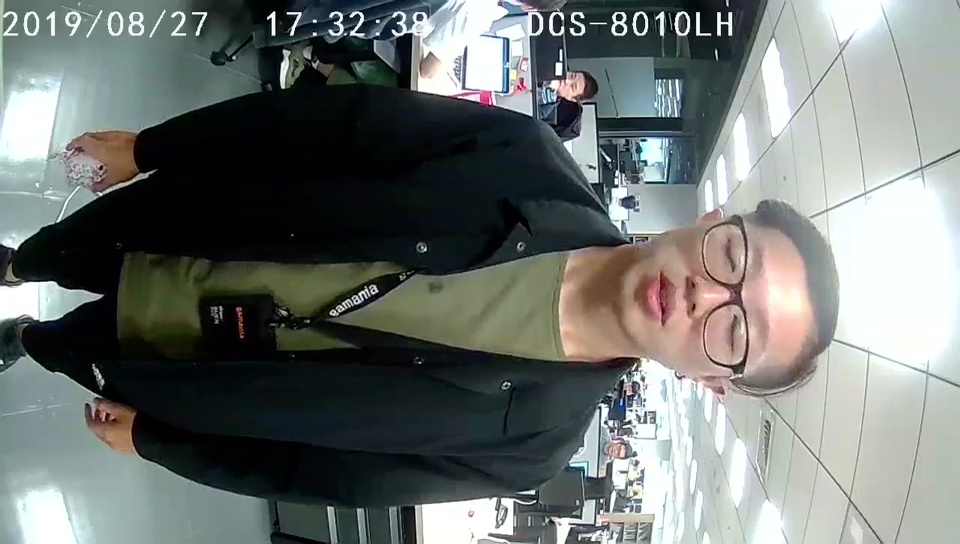pig: (64, 147, 105, 190)
